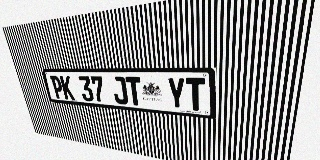3: (78, 76, 94, 102)
7: (90, 76, 106, 103)
J: (111, 76, 128, 105)
K: (59, 76, 75, 100)
P: (50, 75, 65, 99)
T: (185, 78, 205, 111), (125, 77, 143, 106)
Y: (167, 77, 186, 110)
